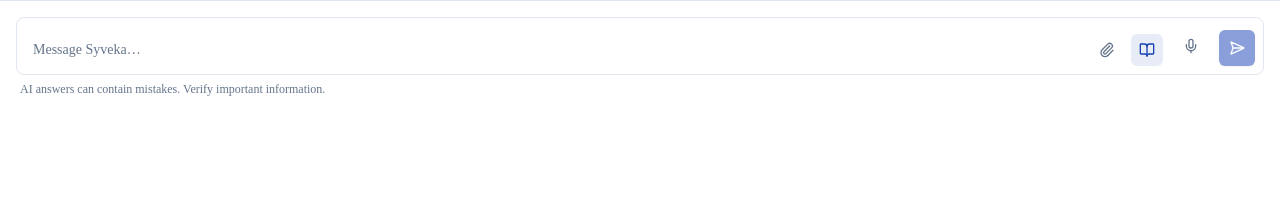
it: Composer voice input › appends to an existing typed draft instead of overwriting it
Type "Hi Syveka,  " into the text box with placeholder "Message Syveka…". click: (554, 50)
box: top-left (25, 34), bottom-right (1083, 66)
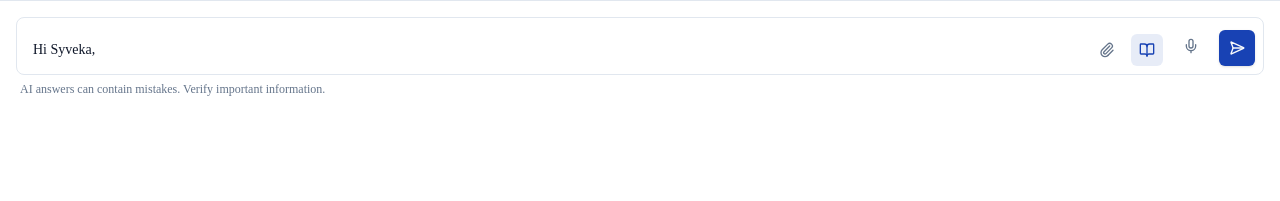
Click the button named "Record a voice message". click: (1191, 46)
box: top-left (1171, 26), bottom-right (1211, 66)
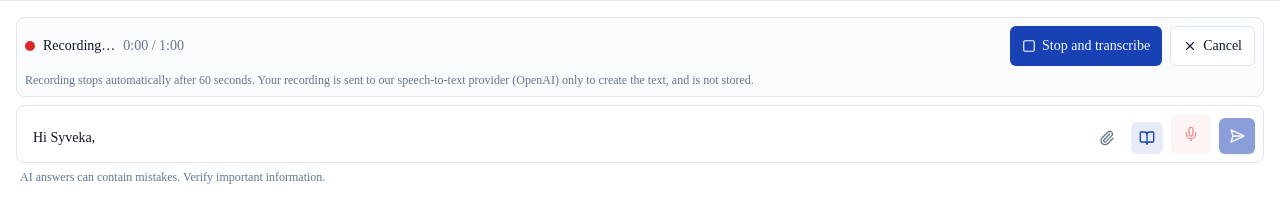
Click the button "Stop and transcribe". click: (1086, 46)
box: top-left (1010, 26), bottom-right (1162, 66)
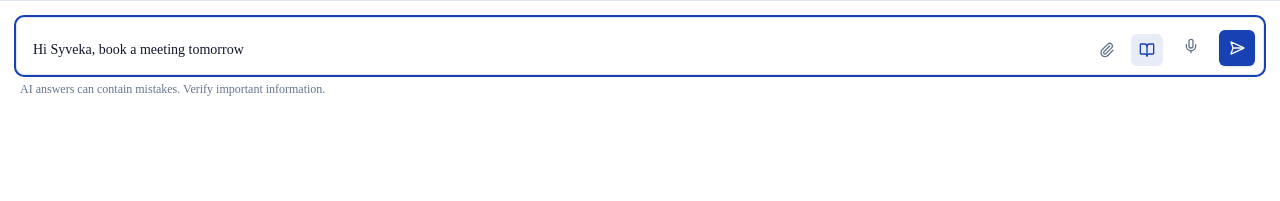
Check: the text box with placeholder "Message Syveka…" holds "Hi Syveka, book a meeting tomorrow", box top-left (25, 34), bottom-right (1083, 66)
